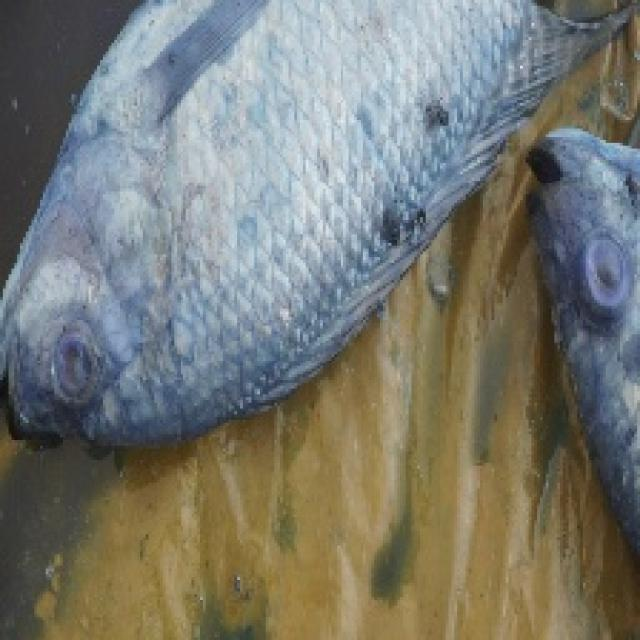Non-Fresh: (10, 1, 519, 431), (566, 226, 640, 324)
